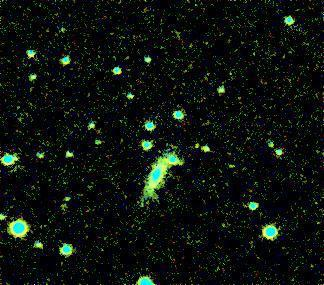star: (183, 129, 213, 159)
